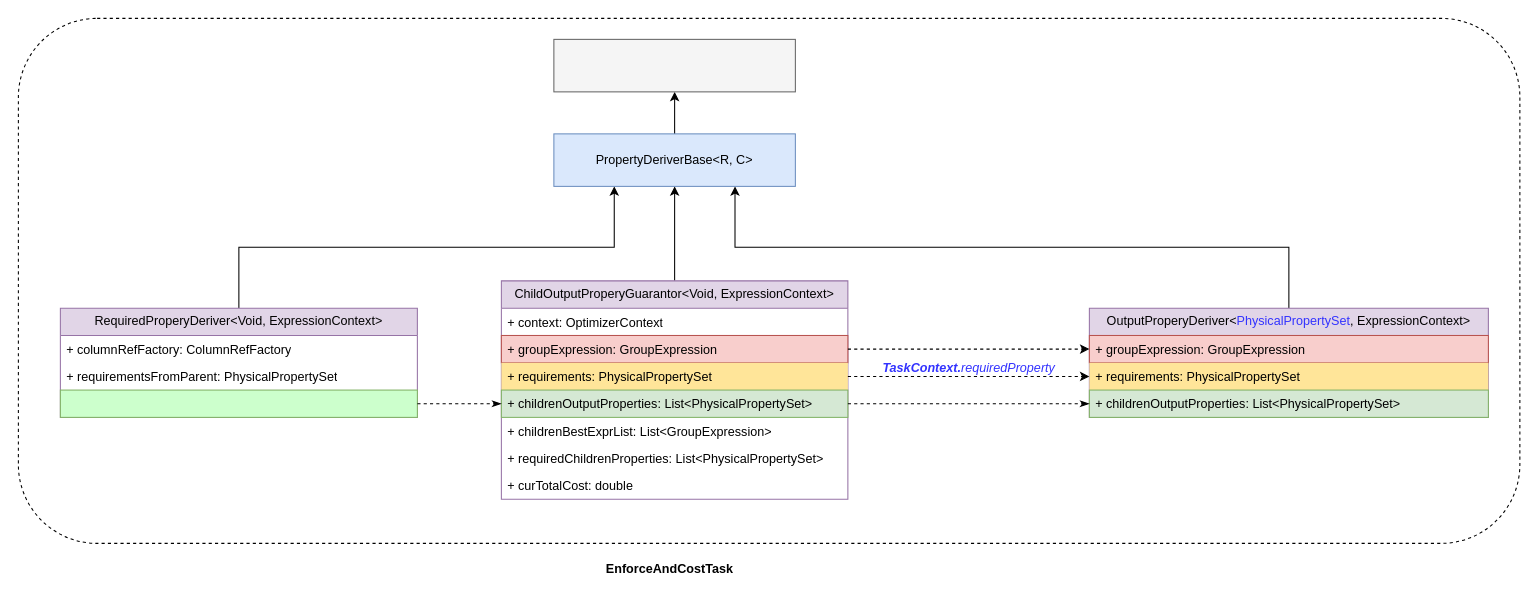
Some shapes in this 1538 by 604 pixel diagram are drawn without their labels. Here are the shapes that lost their labels. From the top down, the centre of each, then its label:
the point at 674,65: OperatorVisitor<R, C>
the point at 238,403: + requiredProperties : List<List< PhysicalPropertySet>>
